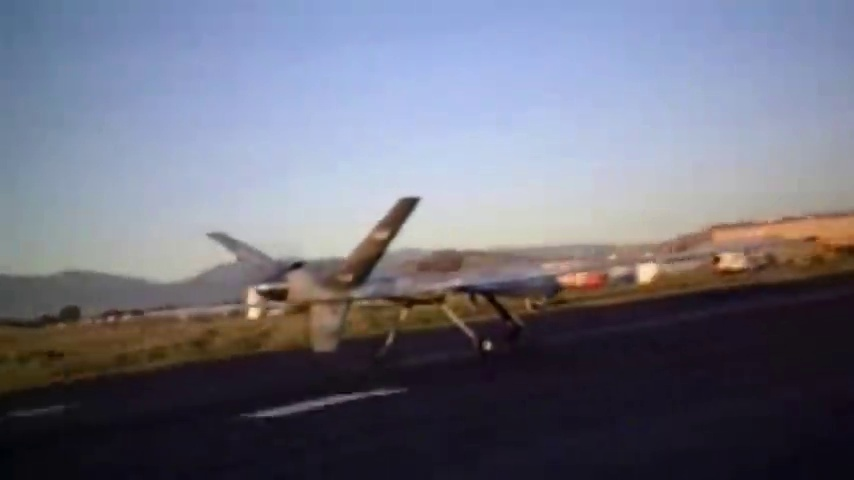military drone: (56, 197, 820, 361)
